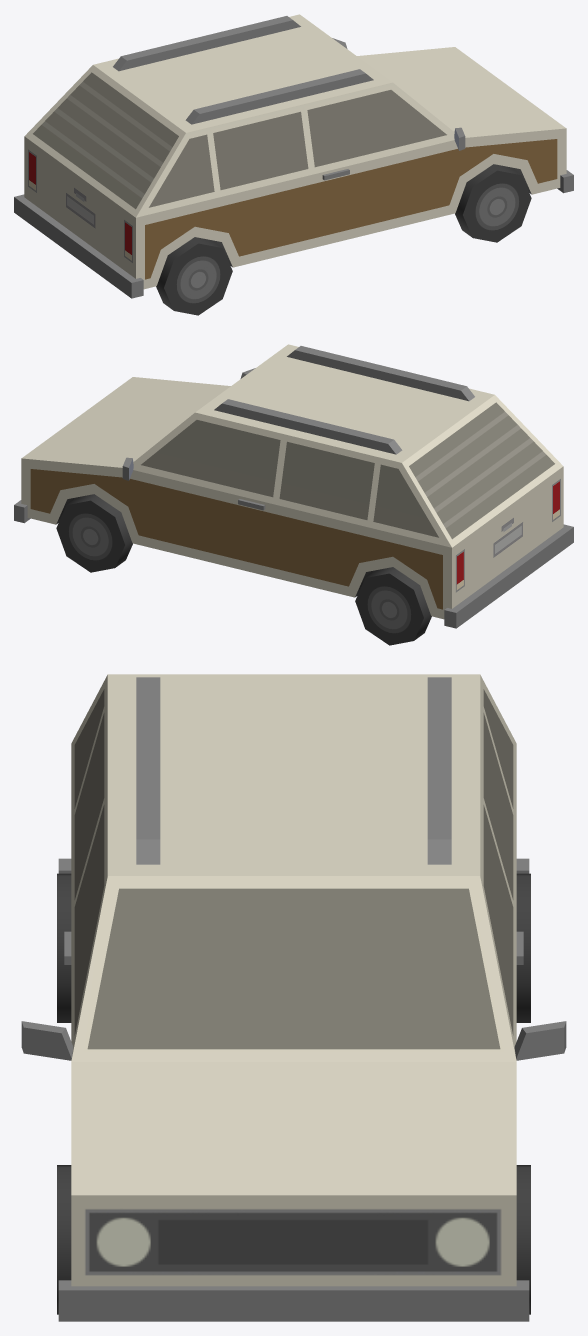
File: west_che04.FBX
3 renders of one model, top to bottom at view 1: azimuth 30°, elevation 25°; view 2: azimuth 150°, elevation 25°; view 3: azimuth 270°, elevation 25°, orthographic. The views are drawn at different scales.
Parts seen in each view (by area): view 1: west_che04; view 2: west_che04; view 3: west_che04.
Part boxes in pixels (x1,y1,x2,y2): west_che04: (14,14,573,315); west_che04: (14,344,573,645); west_che04: (21,674,566,1321).
Size of the model in its own units: 1042 by 410 by 556.
